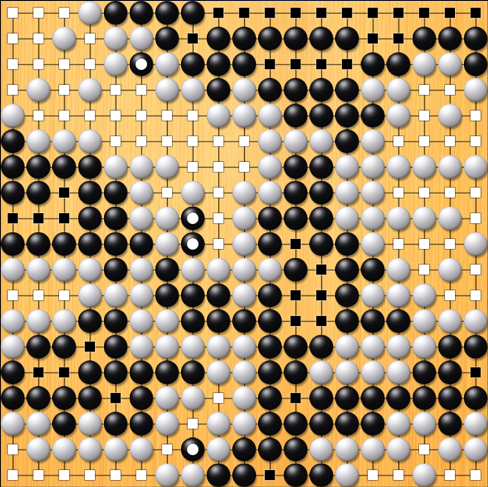black: (25, 231, 49, 255), (25, 334, 49, 358), (25, 385, 49, 409), (25, 154, 49, 178), (25, 180, 49, 204), (51, 231, 75, 255), (51, 334, 75, 358), (51, 385, 75, 409), (51, 411, 75, 435), (51, 154, 75, 178), (77, 231, 101, 255), (77, 308, 101, 332), (77, 360, 101, 384), (77, 385, 101, 409), (77, 154, 101, 178), (77, 180, 101, 204), (77, 206, 101, 230), (103, 231, 127, 255), (103, 257, 127, 281), (103, 308, 127, 332), (103, 334, 127, 358), (103, 359, 127, 383), (103, 411, 127, 435), (103, 180, 127, 204), (103, 206, 127, 230), (129, 231, 153, 255), (129, 359, 153, 383), (129, 385, 153, 409), (129, 411, 153, 435), (129, 50, 153, 74), (154, 257, 178, 281), (154, 283, 178, 307), (154, 359, 178, 383), (154, 26, 178, 50), (180, 231, 204, 255), (180, 282, 204, 306), (180, 308, 204, 332), (180, 359, 204, 383), (180, 436, 204, 460), (180, 51, 204, 75), (180, 205, 204, 229), (206, 283, 230, 307), (206, 308, 230, 332), (205, 463, 229, 487), (206, 26, 230, 50), (206, 51, 230, 75), (206, 77, 230, 101), (231, 308, 255, 332), (232, 436, 256, 460), (231, 462, 255, 486), (231, 26, 255, 50), (231, 51, 255, 75), (257, 231, 281, 255), (257, 283, 281, 307), (257, 308, 281, 332), (257, 334, 281, 358), (257, 359, 281, 383), (257, 385, 281, 409), (257, 411, 281, 435), (257, 436, 281, 460), (257, 26, 281, 50), (257, 77, 281, 101), (257, 205, 281, 229), (283, 257, 307, 281), (283, 334, 307, 358), (283, 359, 307, 383), (283, 411, 307, 435), (283, 436, 307, 460), (283, 462, 307, 486), (283, 26, 307, 50), (283, 77, 307, 101), (283, 103, 307, 127), (283, 154, 307, 178), (283, 180, 307, 204), (283, 206, 307, 230), (308, 231, 332, 255), (308, 334, 332, 358), (308, 385, 332, 409), (308, 411, 332, 435), (308, 463, 332, 487), (308, 26, 332, 50), (308, 77, 332, 101), (309, 103, 333, 127), (308, 154, 332, 178), (308, 180, 332, 204), (308, 206, 332, 230), (334, 231, 358, 255), (334, 257, 358, 281), (334, 283, 358, 307), (334, 308, 358, 332), (334, 385, 358, 409), (334, 411, 358, 435), (334, 26, 358, 50), (334, 77, 358, 101), (334, 103, 358, 127), (334, 128, 358, 152), (360, 257, 384, 281), (360, 308, 384, 332), (360, 385, 384, 409), (360, 411, 384, 435), (360, 51, 384, 75), (360, 103, 384, 127), (385, 308, 409, 332), (385, 385, 409, 409), (385, 51, 409, 75), (412, 359, 436, 383), (411, 385, 435, 409), (411, 26, 435, 50), (437, 334, 461, 358), (437, 359, 461, 383), (437, 385, 461, 409), (437, 411, 461, 435), (437, 26, 461, 50), (463, 334, 487, 358), (463, 385, 487, 409), (463, 26, 487, 50), (463, 51, 487, 75), (103, 1, 127, 24), (129, 1, 153, 24), (154, 1, 178, 24), (180, 1, 204, 24), (1, 231, 23, 255), (1, 360, 23, 384), (1, 385, 23, 409), (1, 129, 23, 153), (1, 154, 23, 178), (1, 180, 23, 204)
white: (24, 255, 50, 281), (24, 306, 50, 332), (24, 409, 50, 435), (24, 434, 50, 460), (24, 75, 50, 101), (24, 126, 50, 152), (50, 255, 76, 281), (50, 306, 76, 332), (50, 435, 76, 461), (50, 24, 76, 50), (50, 126, 76, 152), (75, 255, 101, 281), (75, 281, 101, 307), (75, 409, 101, 435), (75, 435, 101, 461), (75, 75, 101, 101), (76, 127, 102, 153), (101, 281, 127, 307), (101, 435, 127, 461), (101, 24, 127, 50), (101, 49, 127, 75), (101, 152, 127, 178), (127, 255, 153, 281), (127, 281, 153, 307), (127, 306, 153, 332), (127, 332, 153, 358), (127, 435, 153, 461), (127, 23, 153, 49), (127, 152, 153, 178), (127, 178, 153, 204), (127, 203, 153, 229), (152, 229, 178, 255), (152, 306, 178, 332), (153, 332, 179, 358), (153, 383, 179, 409), (153, 409, 179, 435), (153, 461, 179, 487), (153, 50, 179, 76), (153, 75, 179, 101), (152, 152, 178, 178), (152, 203, 178, 229), (179, 255, 205, 281), (178, 332, 204, 358), (178, 383, 204, 409), (179, 461, 205, 487), (178, 75, 204, 101), (178, 178, 204, 204), (204, 255, 230, 281), (204, 332, 230, 358), (204, 358, 230, 384), (204, 409, 230, 435), (204, 435, 230, 461), (204, 101, 230, 127), (230, 229, 256, 255), (230, 255, 256, 281), (230, 280, 256, 306), (230, 332, 256, 358), (230, 357, 256, 383), (230, 383, 256, 409), (230, 409, 256, 435), (229, 75, 255, 101), (230, 101, 256, 127), (230, 178, 256, 204), (230, 204, 256, 230), (256, 255, 282, 281), (255, 101, 281, 127), (256, 127, 282, 153), (255, 152, 281, 178), (256, 178, 282, 204), (281, 126, 307, 152), (307, 358, 333, 384), (307, 435, 333, 461), (307, 126, 333, 152), (333, 332, 359, 358), (332, 357, 358, 383), (332, 435, 358, 461), (333, 461, 359, 487), (332, 152, 358, 178), (332, 178, 358, 204), (332, 203, 358, 229), (358, 229, 384, 255), (359, 281, 385, 307), (359, 332, 385, 358), (359, 358, 385, 384), (359, 435, 385, 461), (359, 75, 385, 101), (358, 126, 384, 152), (359, 152, 385, 178), (358, 178, 384, 204), (359, 204, 385, 230), (384, 255, 410, 281), (384, 280, 410, 306), (384, 332, 410, 358), (384, 358, 410, 384), (384, 409, 410, 435), (384, 435, 410, 461), (384, 75, 410, 101), (384, 100, 410, 126), (384, 152, 410, 178), (384, 203, 410, 229), (410, 281, 436, 307), (410, 306, 436, 332), (410, 332, 436, 358), (410, 409, 436, 435), (410, 461, 436, 487), (410, 49, 436, 75), (410, 152, 436, 178), (410, 203, 436, 229), (436, 255, 462, 281), (435, 306, 461, 332), (435, 435, 461, 461), (436, 50, 462, 76), (435, 101, 461, 127), (435, 152, 461, 178), (436, 204, 462, 230), (462, 230, 488, 256), (462, 307, 488, 333), (462, 409, 488, 435), (462, 435, 488, 461), (462, 76, 488, 102), (462, 152, 488, 178), (1, 256, 25, 282), (1, 307, 25, 333), (1, 410, 25, 436), (76, 1, 102, 25), (1, 332, 24, 358), (1, 101, 24, 127)
